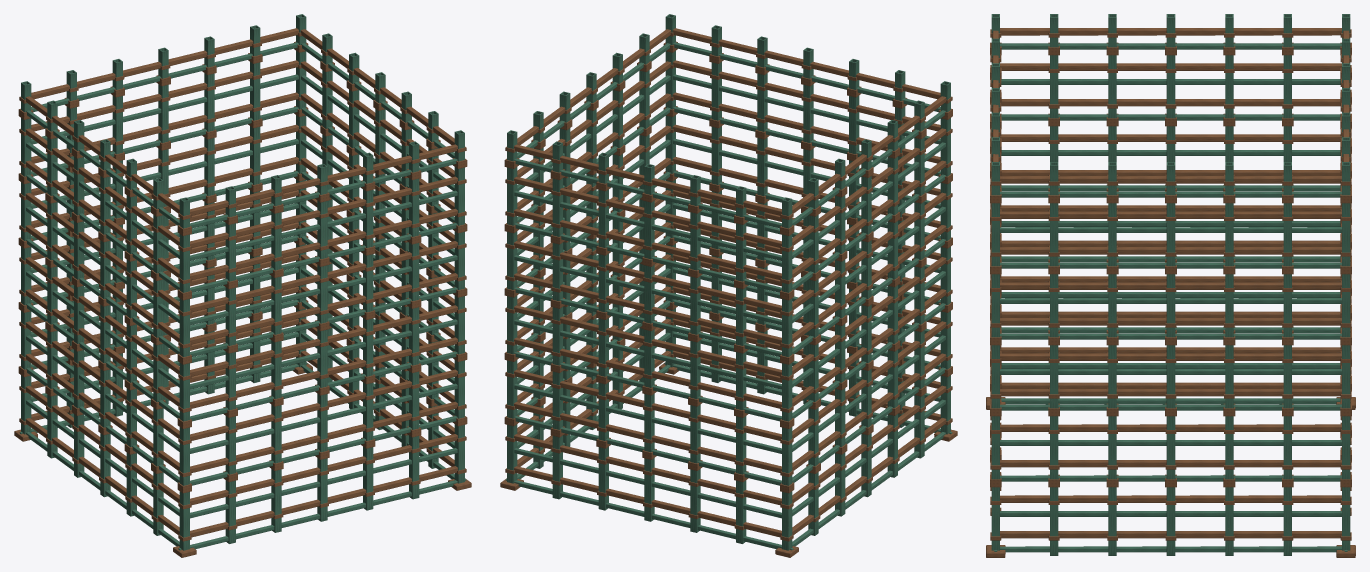
3 views of the same model, side by side, from view 1: azimuth 30°, elevation 25°; view 2: azimuth 150°, elevation 25°; view 3: azimuth 270°, elevation 25° (orthographic). The views are drawn at different scales.
Parts seen in each view (by area): view 1: Tier 0 side 0 post 5, Tier 0 side 0 post 4, Tier 0 side 0 post 3, Tier 0 side 0 post 2, Tier 0 side 0 post 1, Tier 0 side 0 post 0, Tier 2 side 0 post 0, Tier 3 side 0 post 0, Tier 1 side 0 post 0, Tier 4 side 0 post 0; view 2: Tier 0 side 2 post 1, Tier 0 side 2 post 2, Tier 0 side 2 post 3, Tier 0 side 2 post 4, Tier 0 side 2 post 5, Tier 0 side 3 post 0, Tier 2 side 3 post 0, Tier 3 side 3 post 0, Tier 1 side 3 post 0, Tier 4 side 3 post 0; view 3: Tier 0 side 1 post 3, Tier 4 side 1 post 3, Tier 1 side 1 post 3, Tier 2 side 1 post 3, Tier 3 side 1 post 3, Tier 4 side 3 post 3, Tier 0 side 1 post 2, Tier 0 side 1 post 4, Tier 0 side 1 post 1, Tier 0 side 1 post 5, Tier 1 side 1 post 2, Tier 1 side 1 post 4 (+28 smaller).
Part boxes in pixels (box(x1,y1,x2,y2)): Tier 0 side 0 post 5: box(409, 435, 419, 499); Tier 0 side 0 post 4: box(363, 446, 373, 510); Tier 0 side 0 post 3: box(317, 458, 327, 521); Tier 0 side 0 post 2: box(271, 469, 281, 532); Tier 0 side 0 post 1: box(225, 480, 235, 543); Tier 0 side 0 post 0: box(179, 491, 189, 550); Tier 2 side 0 post 0: box(179, 363, 189, 421); Tier 3 side 0 post 0: box(179, 298, 189, 357); Tier 1 side 0 post 0: box(179, 427, 189, 485); Tier 4 side 0 post 0: box(179, 234, 189, 292); Tier 0 side 2 post 1: box(552, 435, 562, 499); Tier 0 side 2 post 2: box(598, 446, 608, 510); Tier 0 side 2 post 3: box(644, 458, 654, 521); Tier 0 side 2 post 4: box(690, 469, 700, 532); Tier 0 side 2 post 5: box(736, 480, 746, 543); Tier 0 side 3 post 0: box(782, 491, 792, 550); Tier 2 side 3 post 0: box(782, 363, 792, 421); Tier 3 side 3 post 0: box(782, 298, 792, 357); Tier 1 side 3 post 0: box(782, 427, 792, 485); Tier 4 side 3 post 0: box(782, 234, 792, 292); Tier 0 side 1 post 3: box(1166, 487, 1175, 555); Tier 4 side 1 post 3: box(1166, 203, 1175, 266); Tier 1 side 1 post 3: box(1166, 416, 1175, 479); Tier 2 side 1 post 3: box(1166, 345, 1175, 408); Tier 3 side 1 post 3: box(1166, 274, 1175, 337); Tier 4 side 3 post 3: box(1166, 55, 1175, 118); Tier 0 side 1 post 2: box(1108, 487, 1116, 555); Tier 0 side 1 post 4: box(1225, 487, 1233, 555); Tier 0 side 1 post 1: box(1050, 487, 1058, 555); Tier 0 side 1 post 5: box(1283, 487, 1291, 555); Tier 1 side 1 post 2: box(1108, 416, 1116, 479); Tier 1 side 1 post 4: box(1225, 416, 1233, 479).
Size of the model in its own units: 2.85 by 3.32 by 2.85.
Materials: 2 (2 with a texture image).
